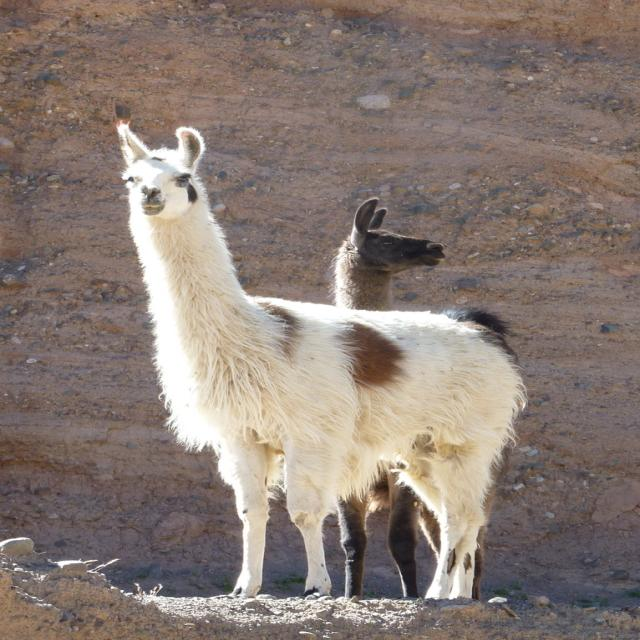alpaca: (116, 121, 519, 604), (330, 197, 514, 599)
